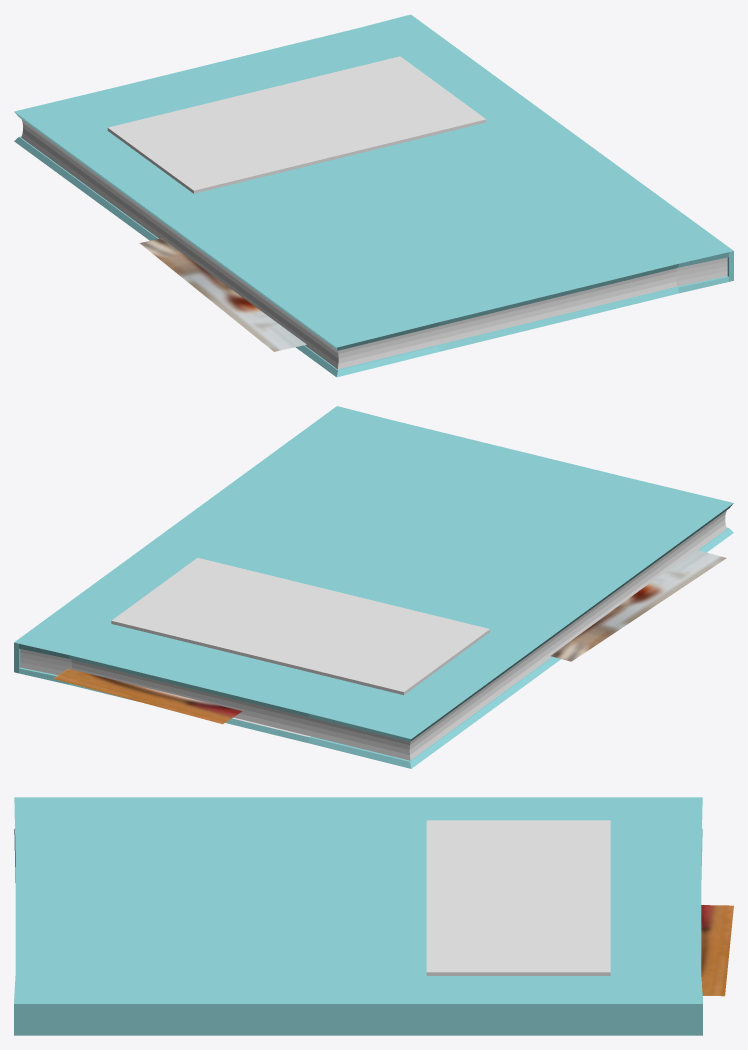
File: EvidenceFolder.fbx
3 renders of one model, top to bottom at view 1: azimuth 30°, elevation 25°; view 2: azimuth 150°, elevation 25°; view 3: azimuth 270°, elevation 25°, orthographic. The views are drawn at different scales.
Visible parts, largest first — view 1: Evidence; view 2: Evidence; view 3: Evidence.
Boxes of the visible parts, <box> form: Evidence: <box>14,14,733,377</box>; Evidence: <box>14,406,733,768</box>; Evidence: <box>14,797,733,1035</box>.
Bounding box in the file's own units: 59.84 × 4.43 × 82.32.
Materials: 2 (2 with a texture image).
